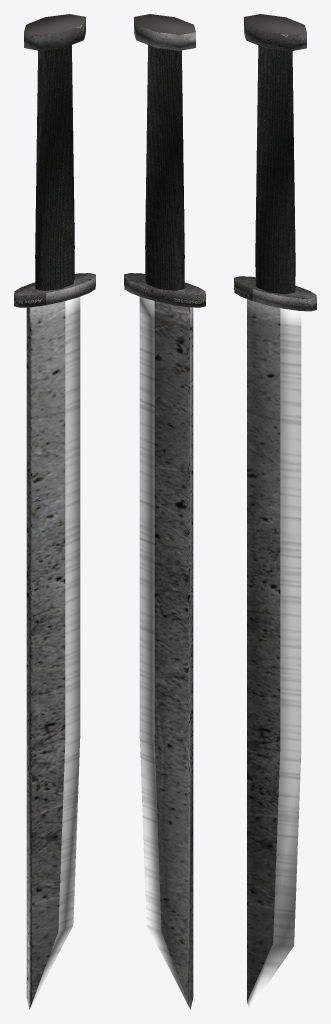
File: Sword01.fbx
3 views of the same model, side by side, from view 1: azimuth 30°, elevation 25°; view 2: azimuth 150°, elevation 25°; view 3: azimuth 330°, elevation 25° (orthographic).
Parts seen in each view (by area): view 1: Sword01; view 2: Sword01; view 3: Sword01.
Boxes of the visible parts, x1,y1,x2,y2 form: Sword01: (14, 14, 95, 1009); Sword01: (124, 14, 205, 1009); Sword01: (234, 14, 316, 1009).
Size of the model in its own units: 9.56 by 4.03 by 110.
Materials: 4 (4 with a texture image).
